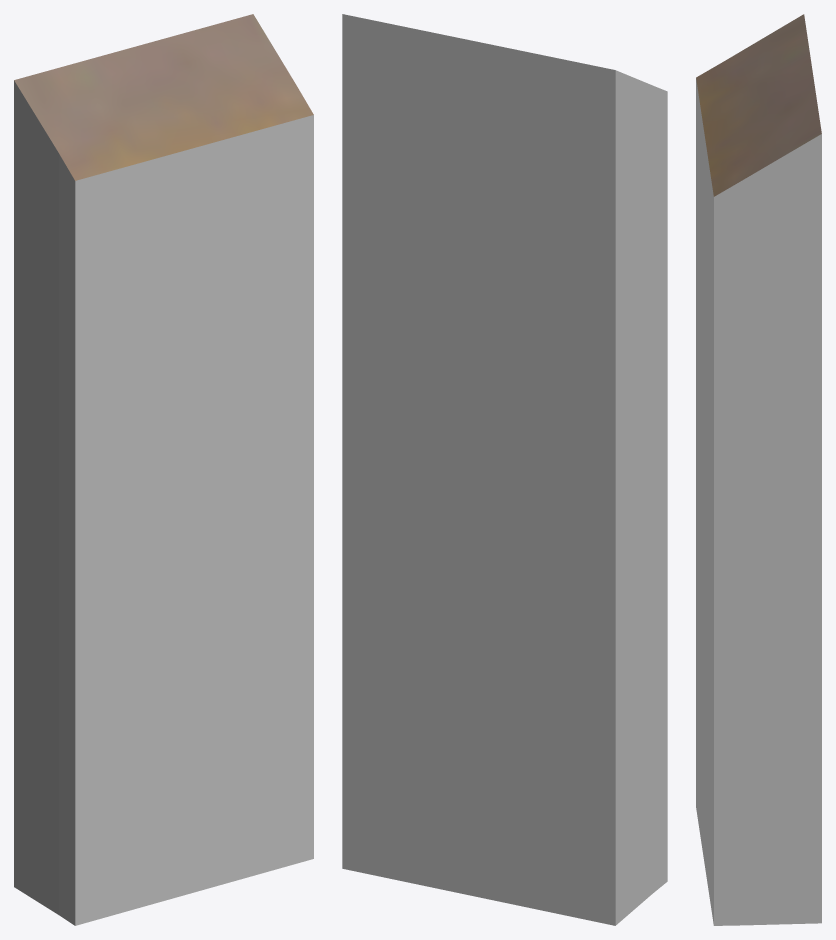
File: DEBW_0010007TI0h.gltf
3 views of the same model, side by side, from view 1: azimuth 30°, elevation 25°; view 2: azimuth 150°, elevation 25°; view 3: azimuth 270°, elevation 25° (orthographic). The views are drawn at different scales.
Parts seen in each view (by area): view 1: Z_UP; view 2: Z_UP; view 3: Z_UP.
Boxes of the visible parts, x1=… form: Z_UP: x1=14, y1=14, x2=313, y2=925; Z_UP: x1=342, y1=14, x2=667, y2=925; Z_UP: x1=696, y1=14, x2=821, y2=925.
Bounding box in the file's own units: 4.2 × 12.76 × 1.84.
Materials: 2 (1 with a texture image).
